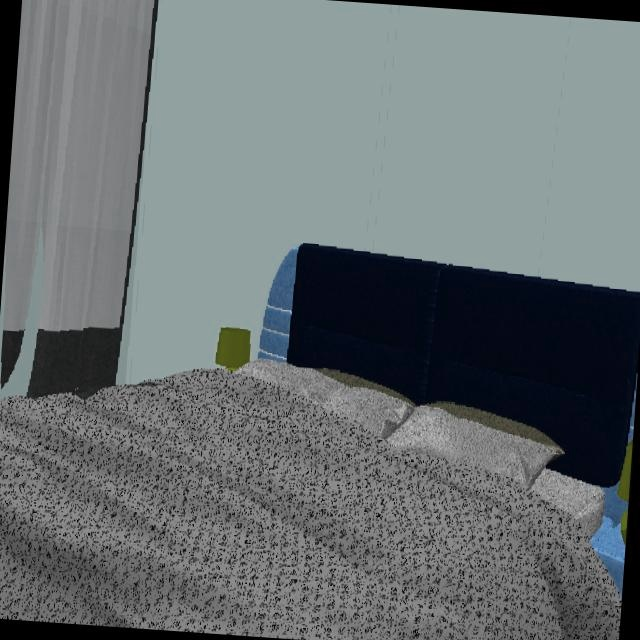bed: (0, 247, 640, 640)
lamp: (214, 328, 253, 372), (615, 440, 631, 546)
nighttable: (594, 495, 627, 596)
pillow: (253, 358, 561, 481), (428, 402, 563, 454), (315, 370, 416, 407)
